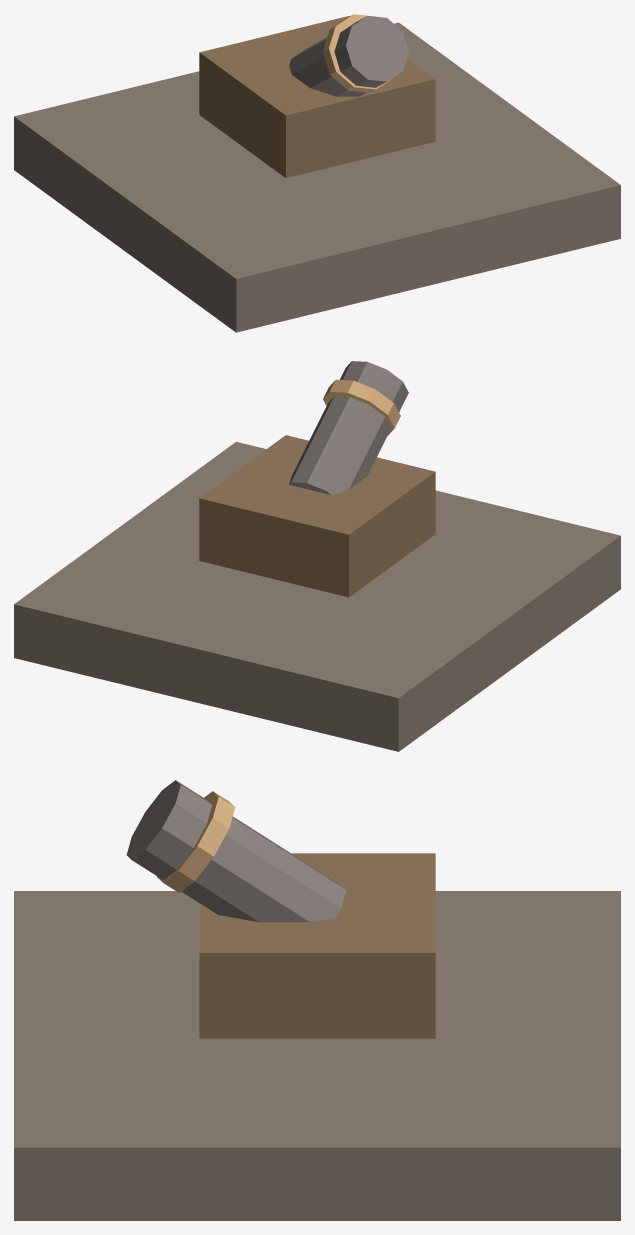
Rendered from orc_mortar.glb.
The picture shows the model from 3 angles, top to bottom: view 1: azimuth 30°, elevation 25°; view 2: azimuth 150°, elevation 25°; view 3: azimuth 270°, elevation 25°; orthographic projection. The views are drawn at different scales.
Visible parts, largest first — view 1: Base, Mount, BarrelPivotMesh; view 2: Base, Mount, BarrelPivotMesh; view 3: Base, Mount, BarrelPivotMesh.
Boxes of the visible parts, x1,y1,x2,y2 form: Base: [14, 22, 620, 332]; Mount: [199, 16, 435, 177]; BarrelPivotMesh: [289, 14, 408, 96]; Base: [14, 441, 620, 751]; Mount: [199, 435, 435, 597]; BarrelPivotMesh: [289, 361, 408, 495]; Base: [14, 891, 620, 1220]; Mount: [199, 853, 435, 1038]; BarrelPivotMesh: [126, 780, 346, 922].
Bounding box in the file's own units: 1.8 × 1.01 × 1.8.
